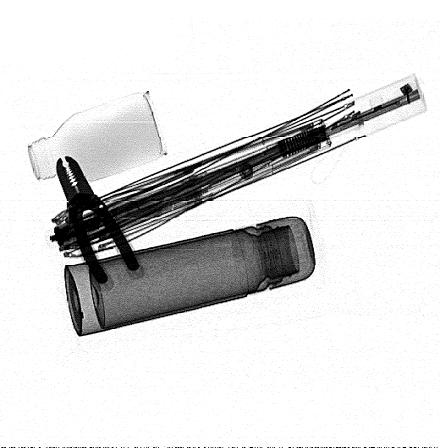Pliers: (56, 154, 141, 285)
